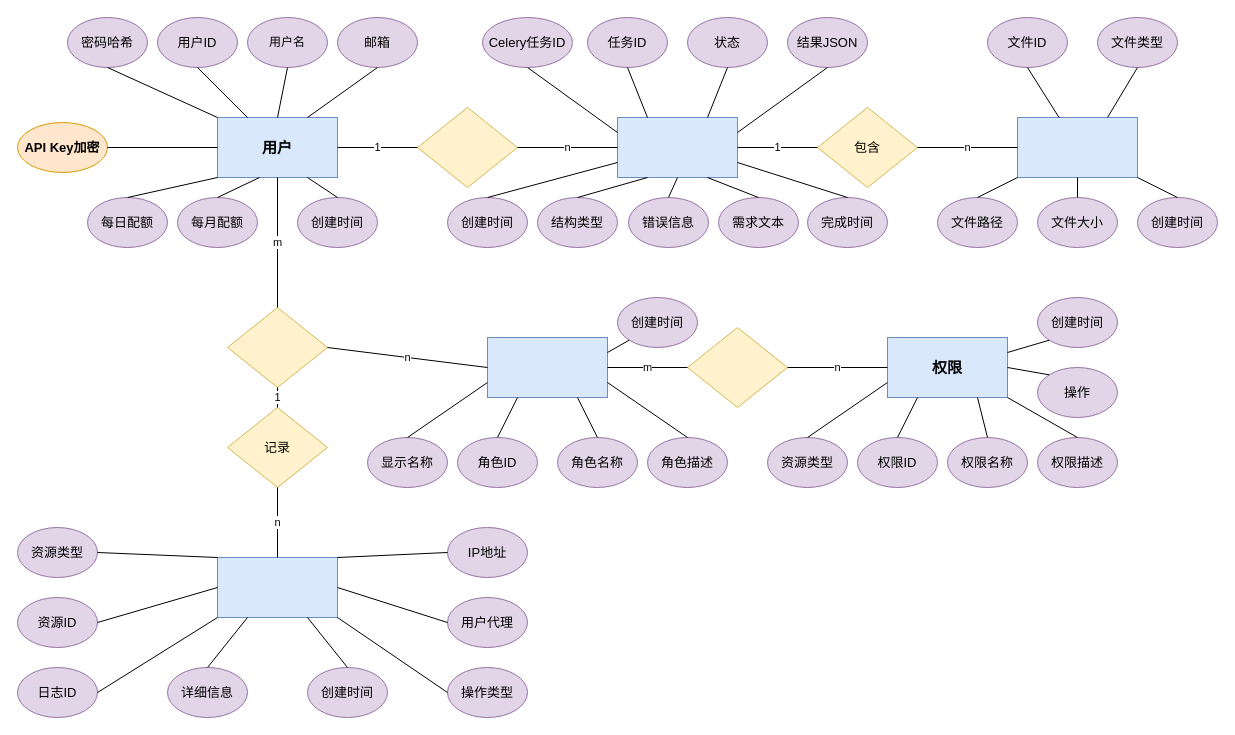
Some shapes in this 1235 by 735 pixel diagram are drawn without their labels. Each missing label, with the box of its shape:
任务: (616, 116, 738, 178)
任务文件: (1016, 116, 1138, 178)
具有: (226, 306, 328, 388)
创建: (416, 106, 518, 188)
审计日志: (216, 556, 338, 618)
拥有: (686, 326, 788, 408)
角色: (486, 336, 608, 398)
